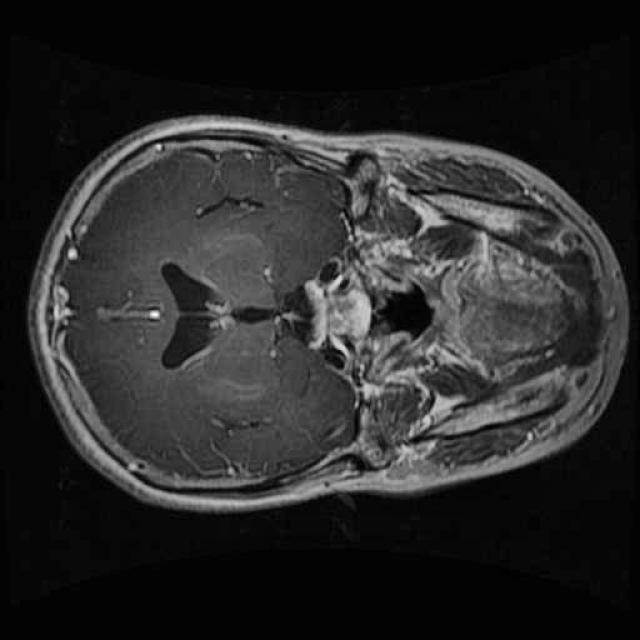Non-Tumor: (192, 185, 286, 236)
